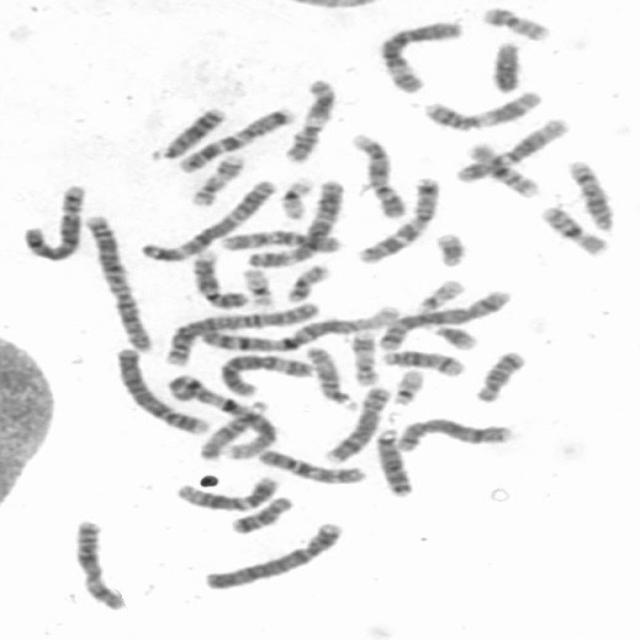A1: (174, 302, 408, 353), (163, 371, 275, 460)
A2: (159, 299, 321, 367), (82, 211, 154, 353)
A3: (137, 176, 279, 262), (242, 177, 348, 270)
B4: (198, 518, 346, 593), (112, 345, 210, 436)
B5: (374, 287, 513, 351), (17, 182, 88, 262)
C10: (253, 446, 369, 486), (217, 227, 345, 254)
C11: (419, 88, 543, 132), (280, 76, 338, 164)
C12: (450, 114, 571, 184), (171, 473, 280, 512)
C6: (374, 17, 465, 95), (216, 350, 316, 397)
C7: (174, 105, 295, 174), (352, 175, 442, 265)
C8: (320, 384, 392, 464), (390, 415, 513, 453)
C9: (348, 130, 408, 219), (189, 247, 249, 309)
D13: (145, 103, 227, 162), (372, 426, 414, 498)
D14: (562, 158, 617, 232), (379, 348, 466, 378)
D15: (192, 398, 274, 462), (302, 344, 359, 412)
E16: (465, 144, 538, 201), (538, 203, 610, 257)
E17: (187, 152, 246, 207), (347, 328, 381, 387)
E18: (470, 348, 528, 404), (226, 493, 294, 535)
F19: (238, 264, 277, 310), (276, 175, 314, 220)
F20: (477, 4, 551, 43), (282, 262, 330, 304)
G21: (426, 322, 479, 351), (432, 230, 468, 268)
G22: (412, 277, 467, 313), (388, 366, 428, 406)
X: (69, 516, 128, 611)
Y: (487, 38, 523, 94)
